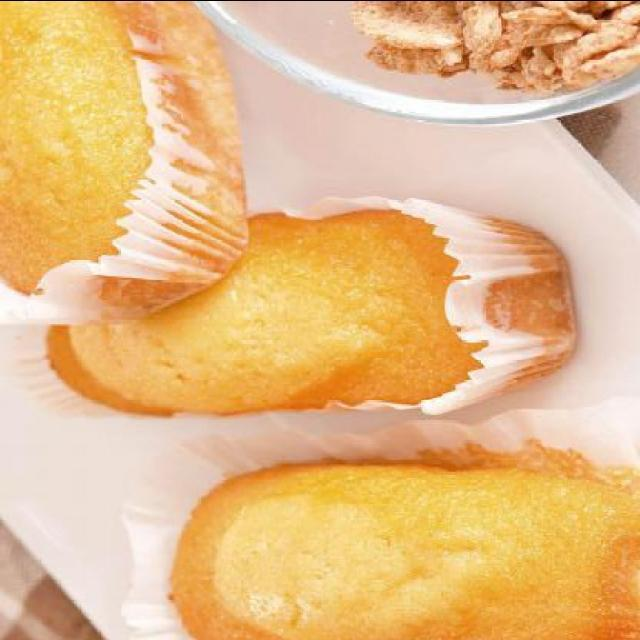Merendine packaged: (34, 199, 588, 421), (146, 439, 640, 639), (1, 1, 250, 333)
